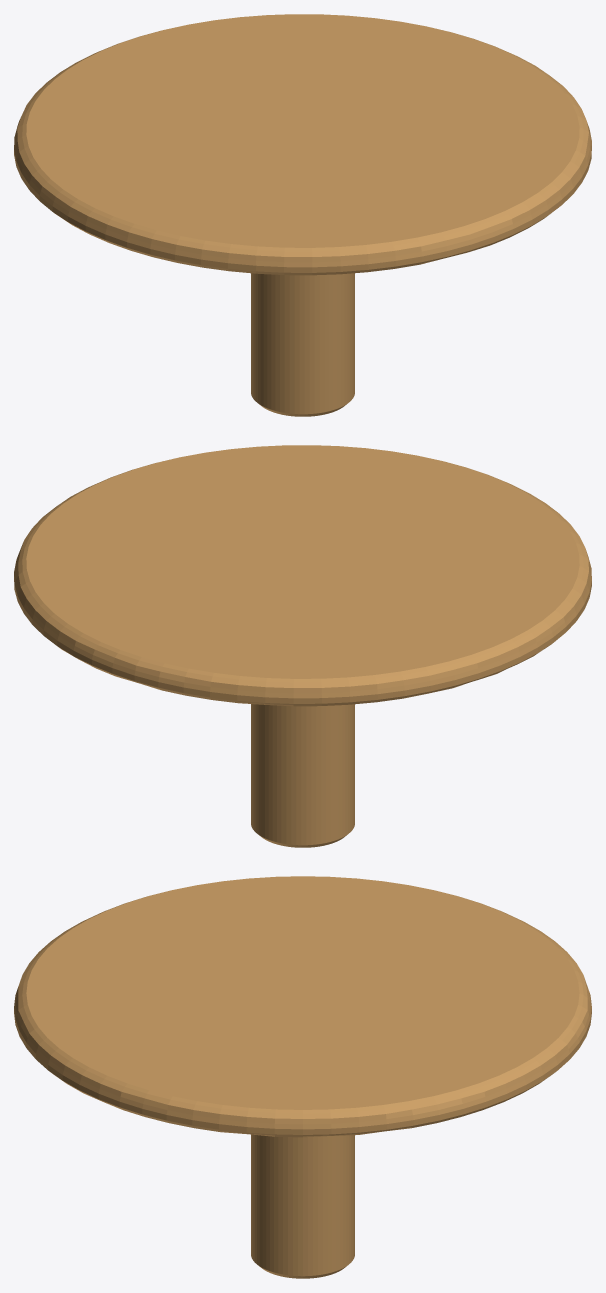
The model's file is Chair.fbx.
3 renders of one model, top to bottom at view 1: azimuth 30°, elevation 25°; view 2: azimuth 150°, elevation 25°; view 3: azimuth 270°, elevation 25°, orthographic.
Visible parts, largest first — view 1: Table5; view 2: Table5; view 3: Table5.
Boxes of the visible parts, x1=… form: Table5: x1=14, y1=14, x2=591, y2=416; Table5: x1=14, y1=445, x2=591, y2=847; Table5: x1=14, y1=876, x2=591, y2=1278.
Bounding box in the file's own units: 0.0604 × 0.0307 × 0.0604.
1 material, 1 textured.
